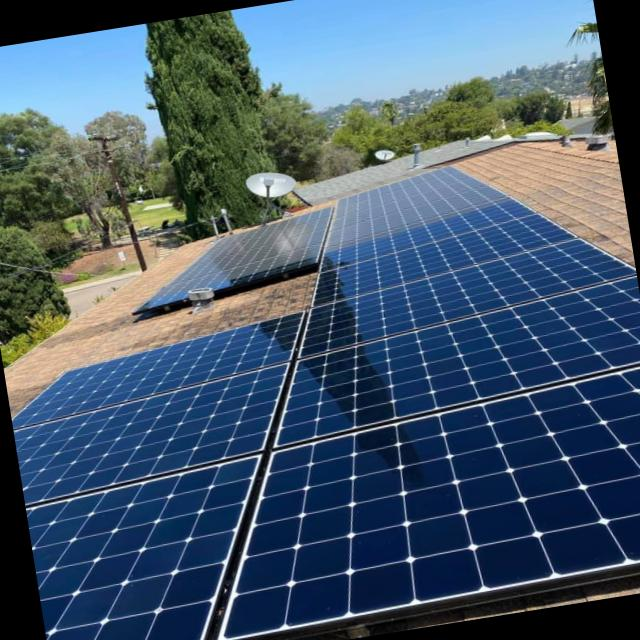no faulty: (14, 199, 640, 640)
